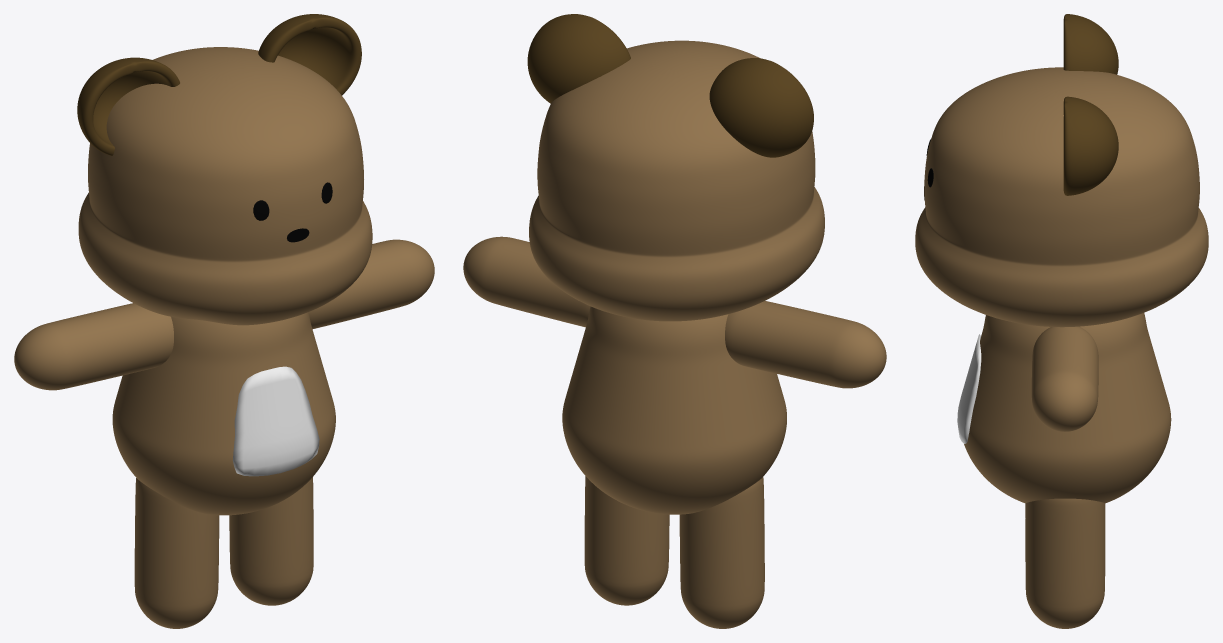
File: newChar.glb
3 renders of one model, left to right at view 1: azimuth 30°, elevation 25°; view 2: azimuth 150°, elevation 25°; view 3: azimuth 270°, elevation 25°, orthographic. The views are drawn at different scales.
Parts seen in each view (by area): view 1: Sphere, Sphere.002, Sphere.004, Sphere.003, Sphere.001, Plane.002; view 2: Sphere, Sphere.002, Sphere.004, Sphere.003, Sphere.001; view 3: Sphere, Sphere.002, Sphere.004, Sphere.001, Sphere.003, Plane.002.
Boxes of the visible parts, x1,y1,x2,y2 form: Sphere: (78,47,372,325); Sphere.002: (112,312,335,515); Sphere.004: (134,477,313,628); Sphere.003: (14,239,434,390); Sphere.001: (77,14,361,155); Plane.002: (232,366,319,476); Sphere: (529,40,824,321); Sphere.002: (562,306,786,514); Sphere.004: (584,476,764,628); Sphere.003: (463,236,886,388); Sphere.001: (527,14,813,157); Sphere: (915,67,1208,327); Sphere.002: (964,313,1171,503); Sphere.004: (1025,498,1105,628); Sphere.001: (1063,14,1118,195); Sphere.003: (1031,326,1098,431); Plane.002: (957,334,981,443).
Size of the model in its own units: 3.35 by 4.44 by 2.18.
